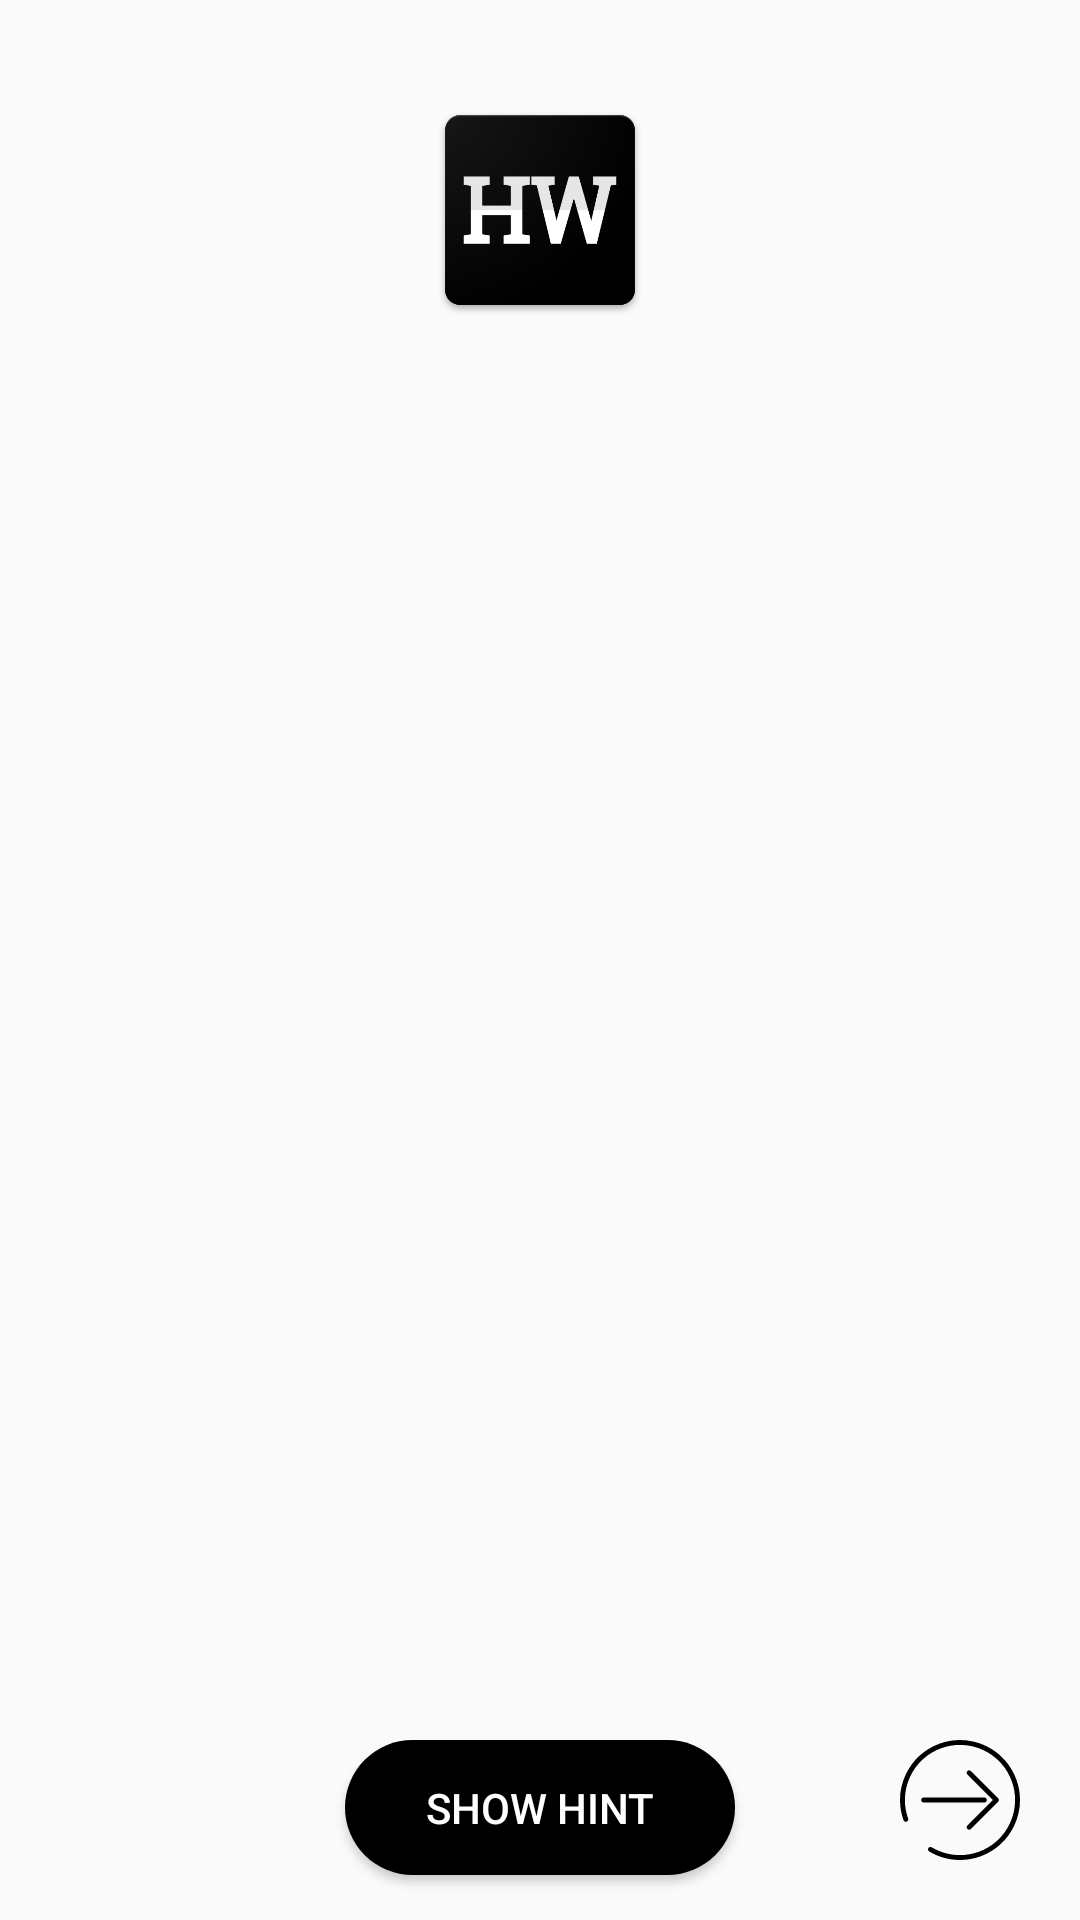

Point at icon controls on the screen. Image size 1080 x 1920, points as (x,y).
next: (960,1800)
